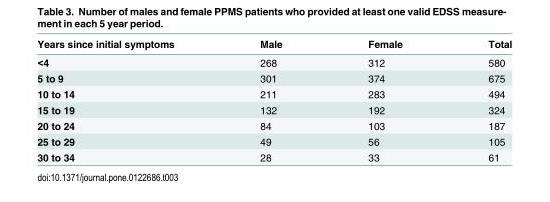table: (36, 37, 511, 162)
table column: (36, 37, 216, 162), (324, 37, 444, 162), (216, 37, 324, 162), (444, 37, 511, 162)
table column header: (36, 37, 511, 52)
table row: (36, 52, 511, 69), (36, 69, 511, 85), (36, 85, 511, 101), (36, 101, 511, 117), (36, 117, 511, 133), (36, 37, 511, 52), (36, 133, 511, 148), (36, 148, 511, 162)
